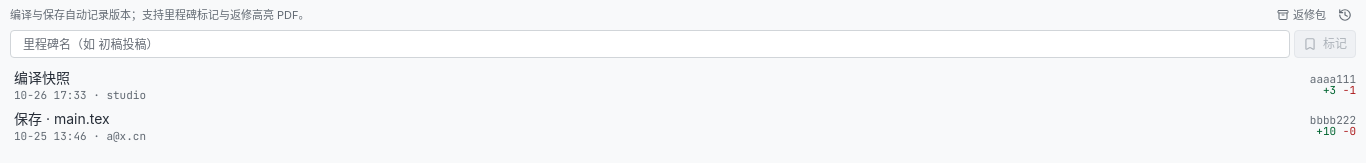
LatexHistory › 渲染版本列表（人话标签 + 行数统计），暂无版本时给空态
This screenshot has width=1366, height=163.
Expected: the number of options is 2, x1=4 y1=64 x2=1362 y2=105; x1=4 y1=105 x2=1362 y2=146
Expected: the option "编译快照 10-26 17:33 · studio aaaa111 +3 −1" is shown, x1=4 y1=64 x2=1362 y2=105
Click the button with test id "latex-history-refresh" at point(1345, 15), box x1=1334 y1=4 x2=1356 y2=26
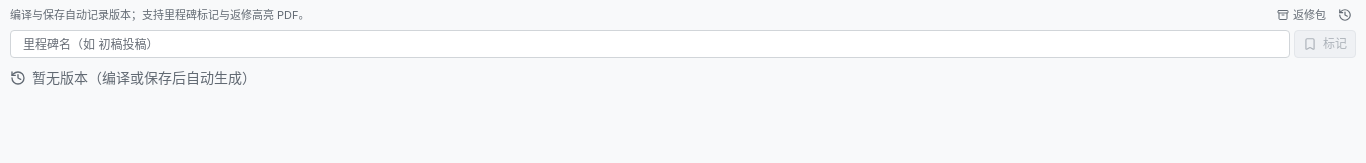
Result: the message with test id "latex-history-empty" shows "暂无版本" at x1=32 y1=69 x2=256 y2=86
